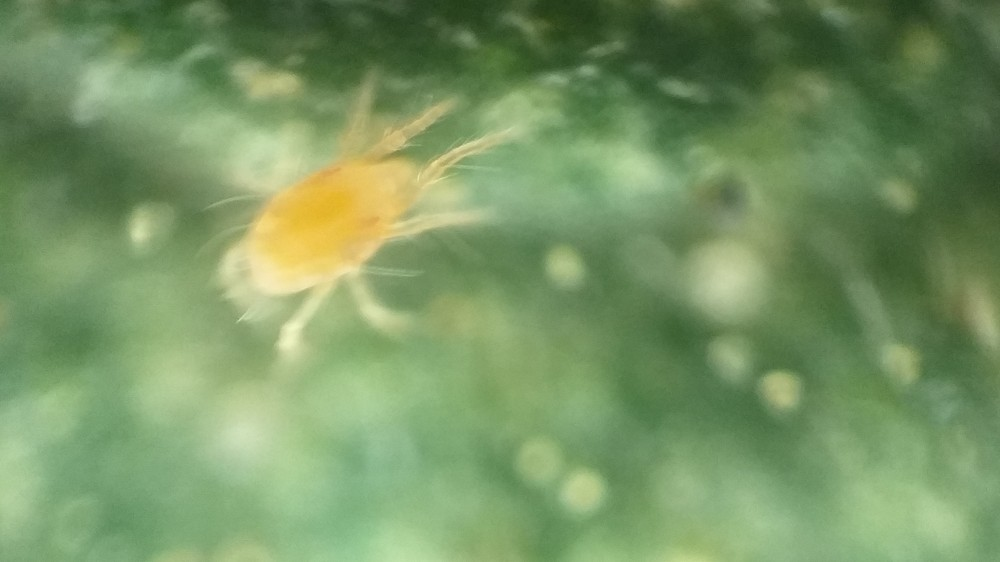Aracnido Rojo: (199, 78, 524, 348)
